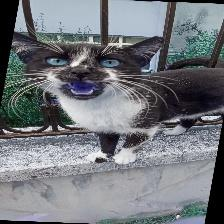kedo: (11, 33, 223, 166)
